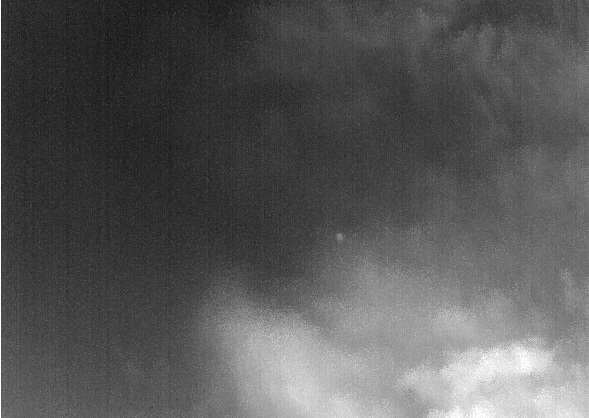dim target: (336, 232, 343, 242)
